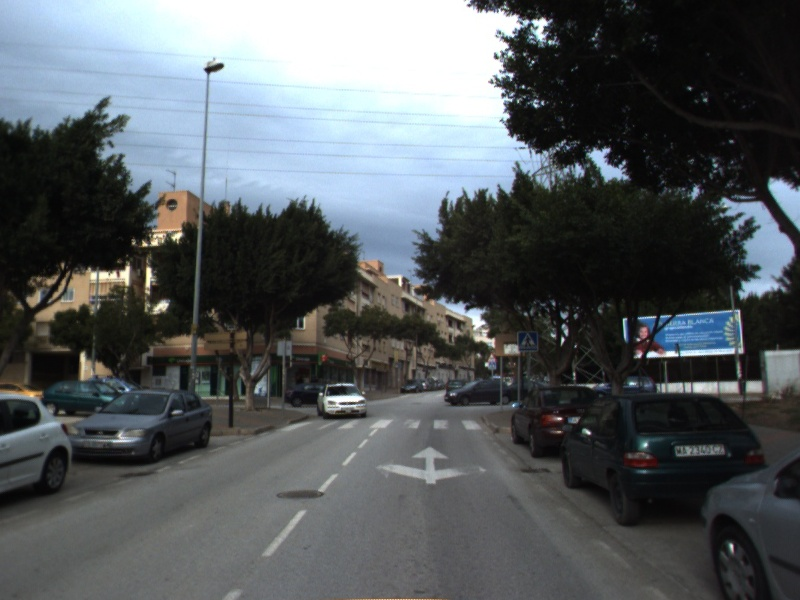STRAIGHT_LEFT_RIGHT: (374, 443, 489, 486)
